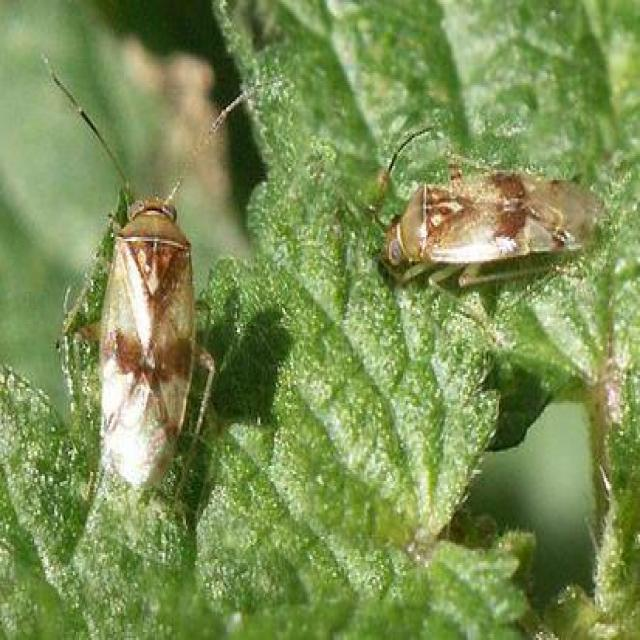Miridae-Adult-: (40, 45, 281, 498), (361, 118, 609, 302)
